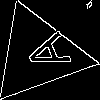A: (13, 29, 72, 78)
